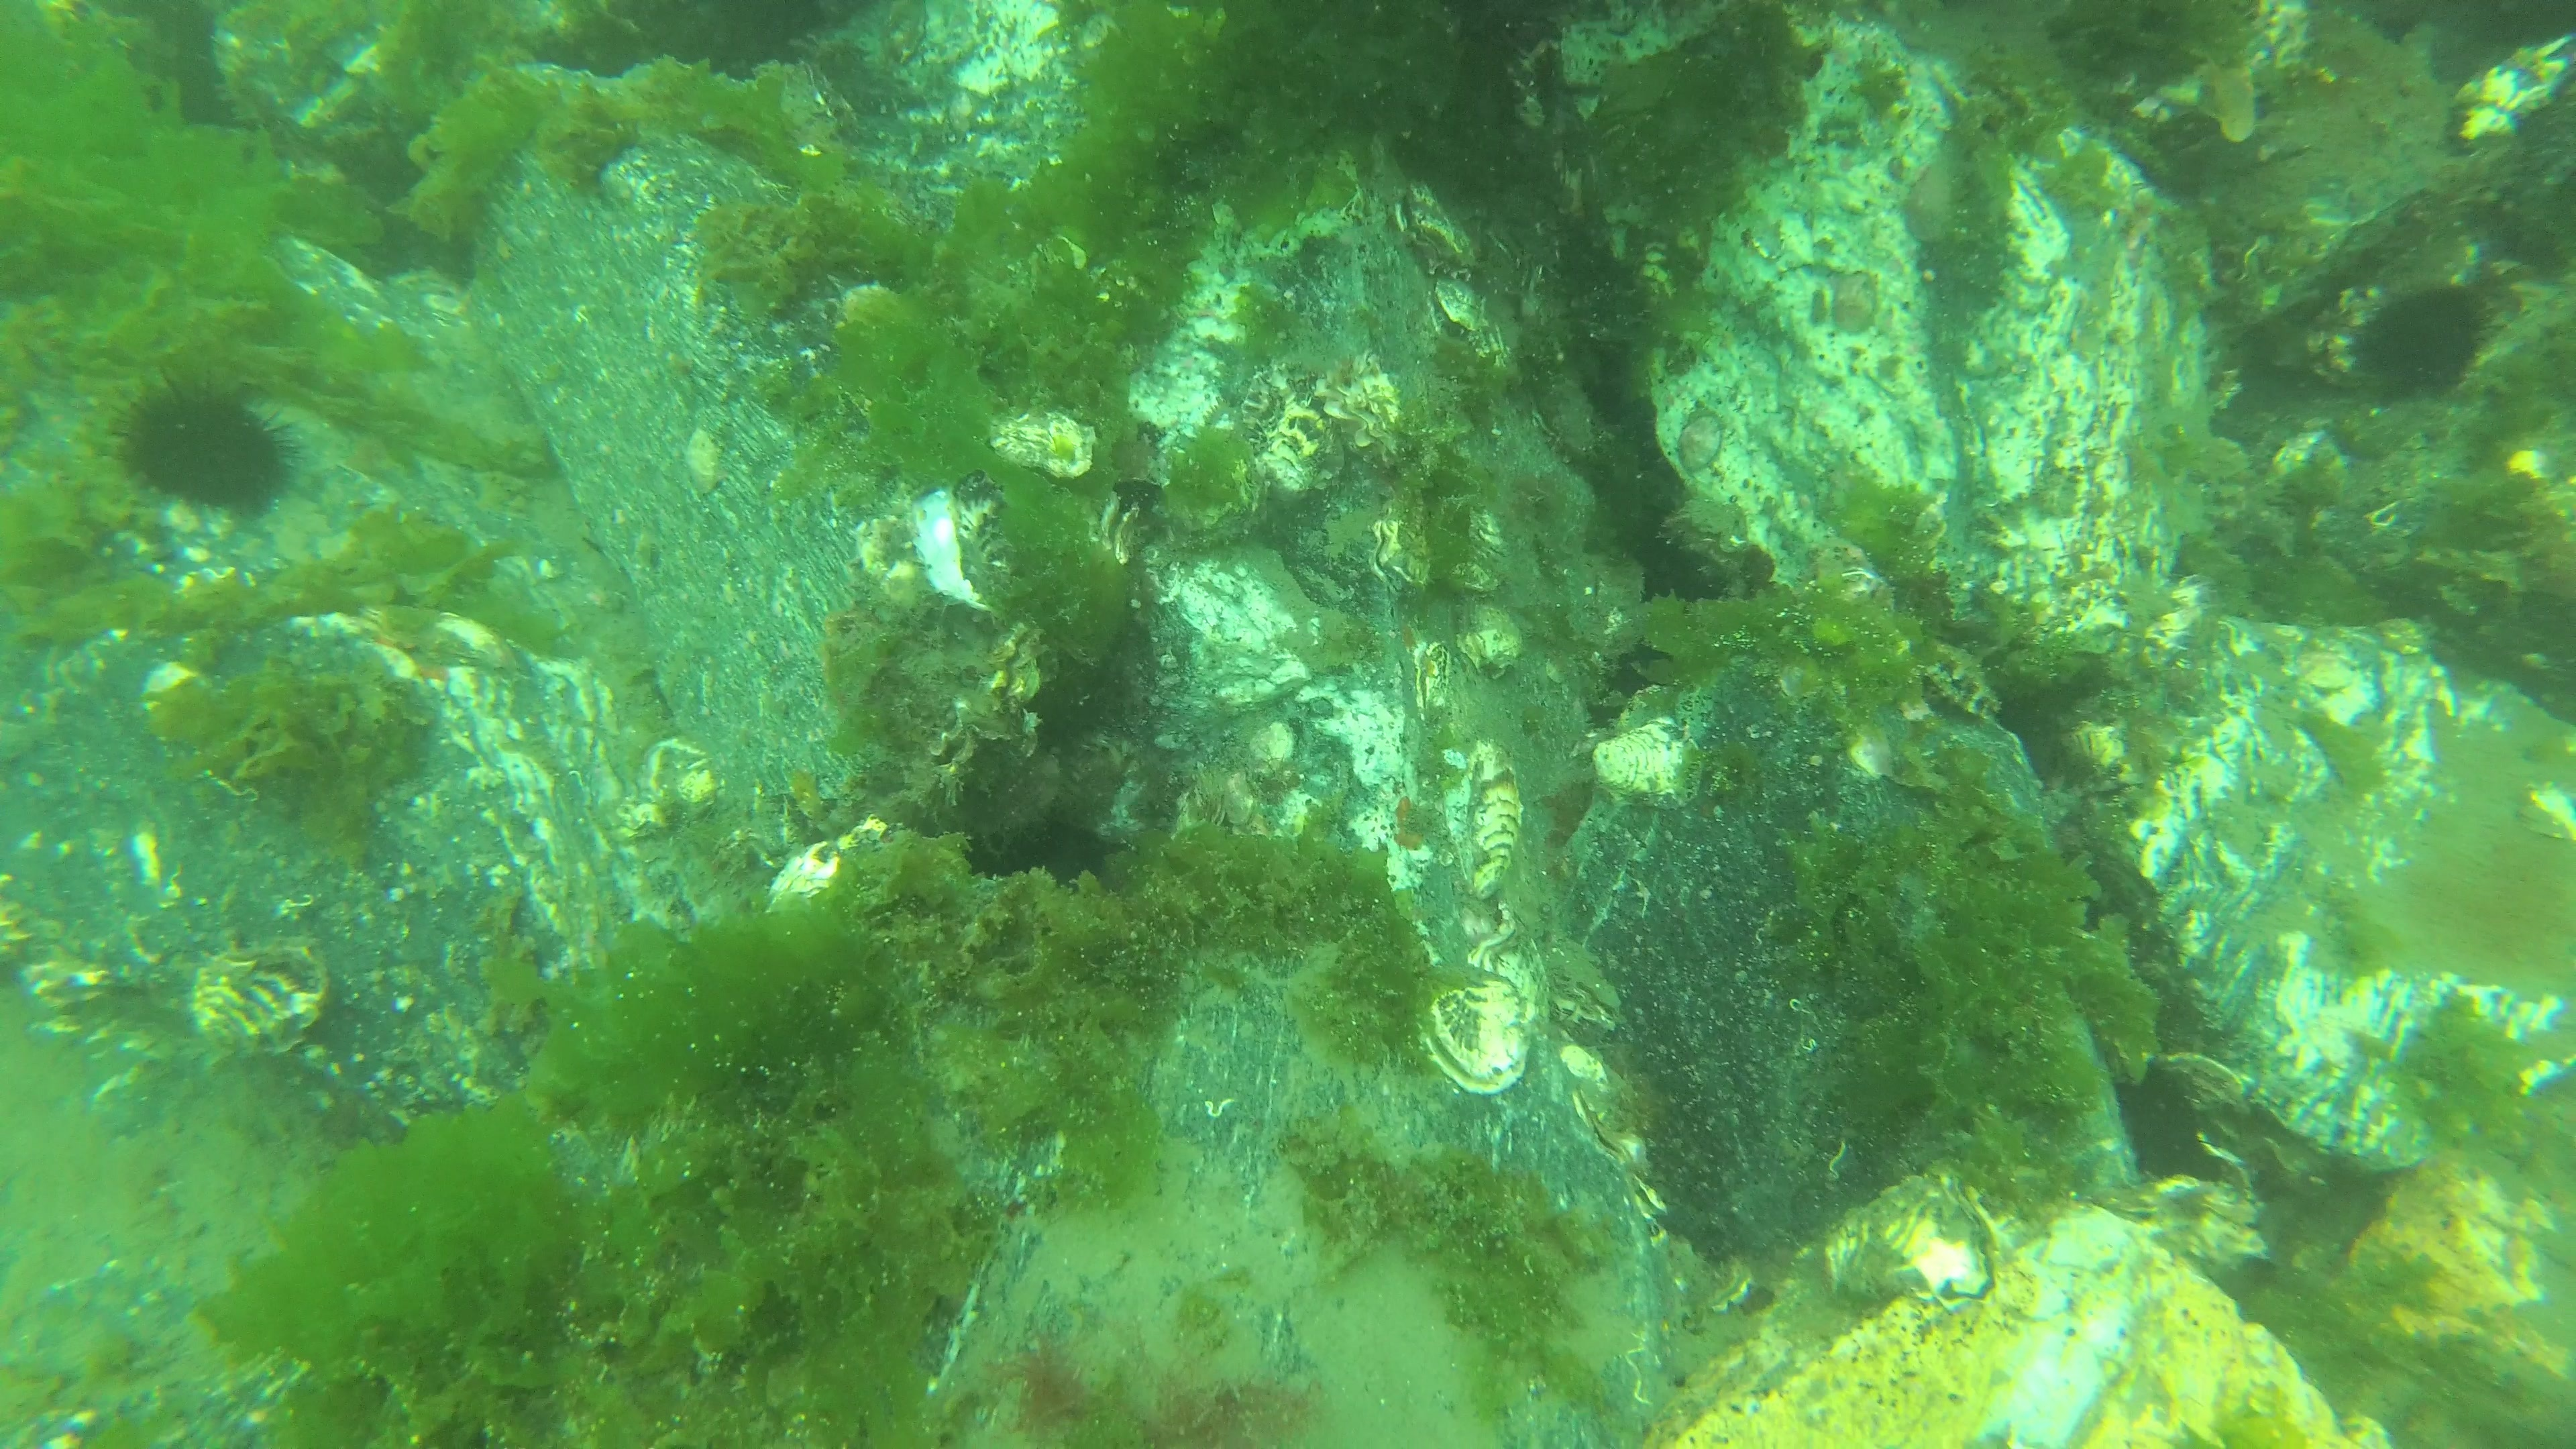echinus: (104, 372, 311, 522), (2351, 274, 2502, 405)
